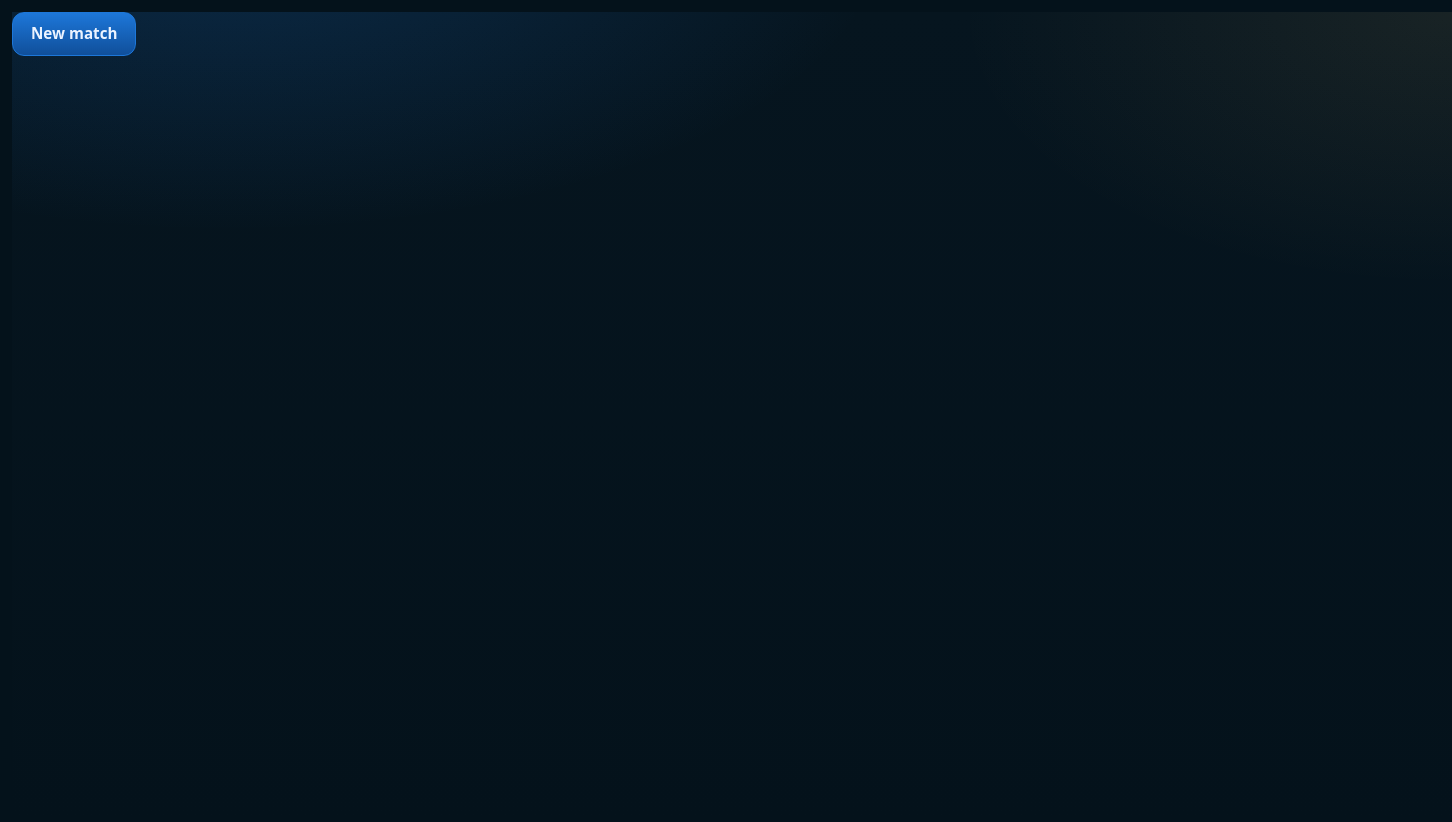
new match form › returns to the admin page, not the match page, after a previous match is recorded
The image size is (1452, 822).
Click the button "New match" at coordinates (74, 34), box [12,12,136,56]
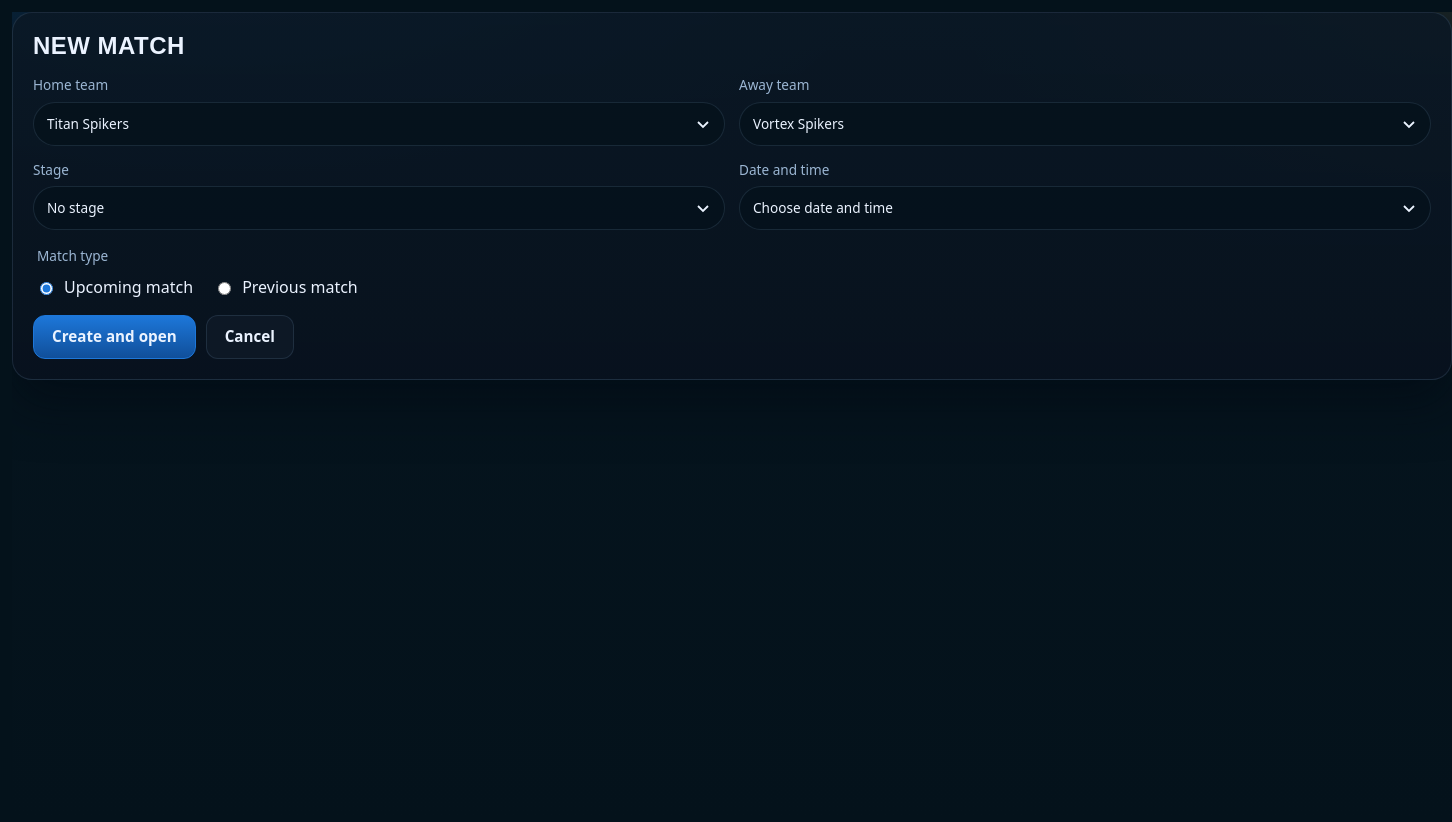
Click the radio button labelled "Previous match" at coordinates (225, 288), box [218,282,231,295]
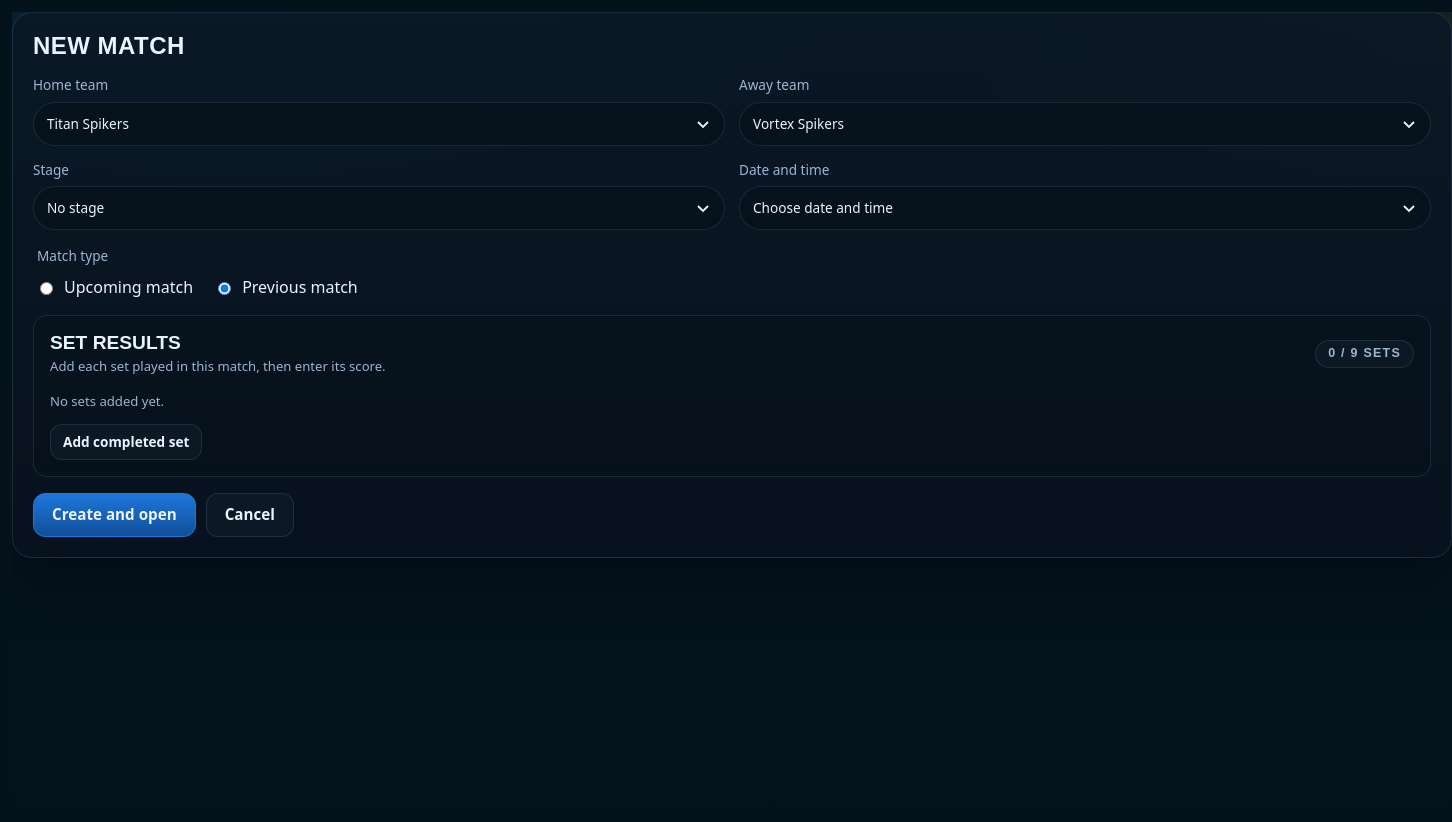
Click the button "Add completed set" at coordinates (126, 442), box [50,424,202,460]
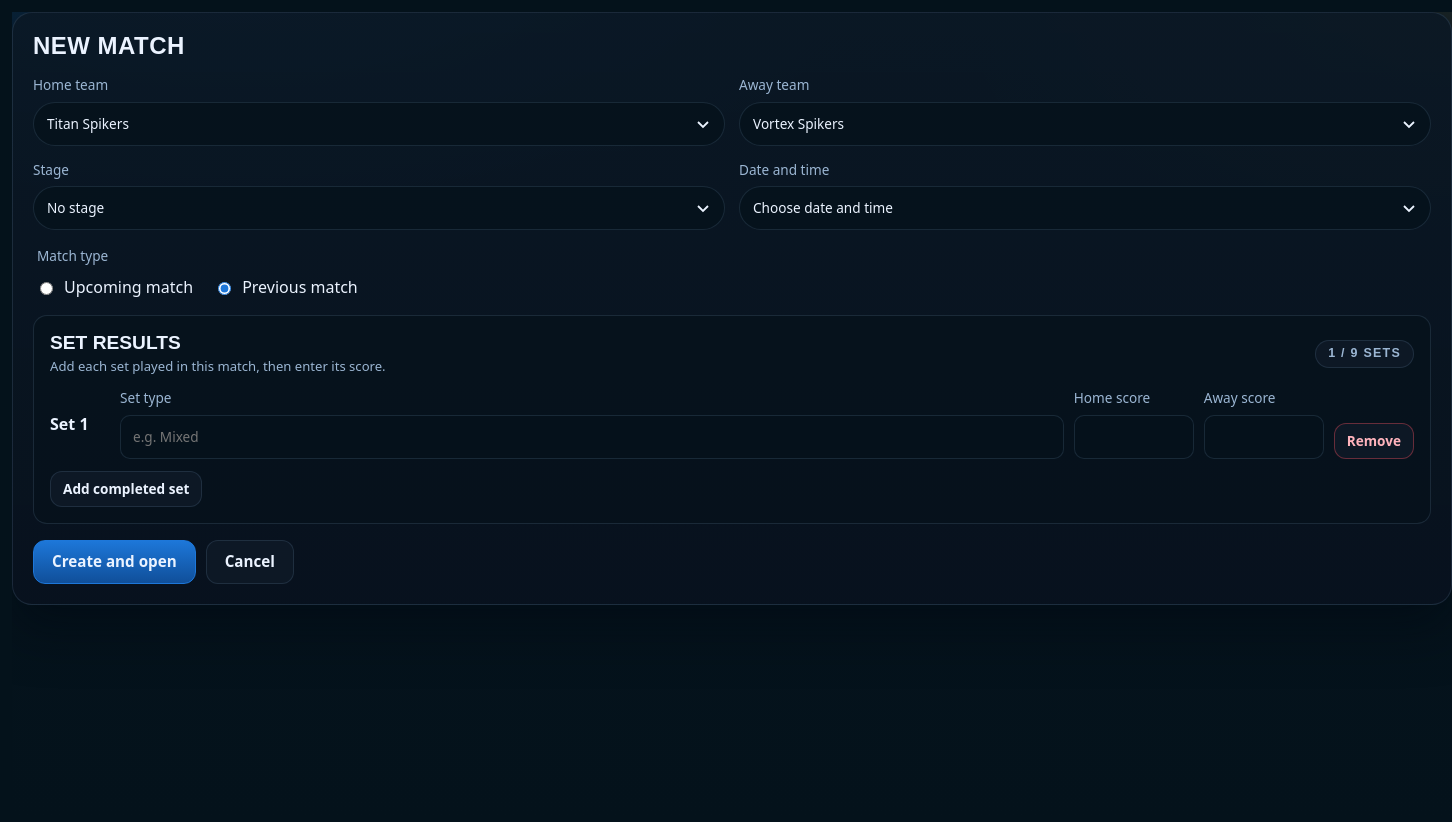
Type "25" into the number field named "Set 1 home score" at coordinates (1134, 437), box [1074,415,1194,459]
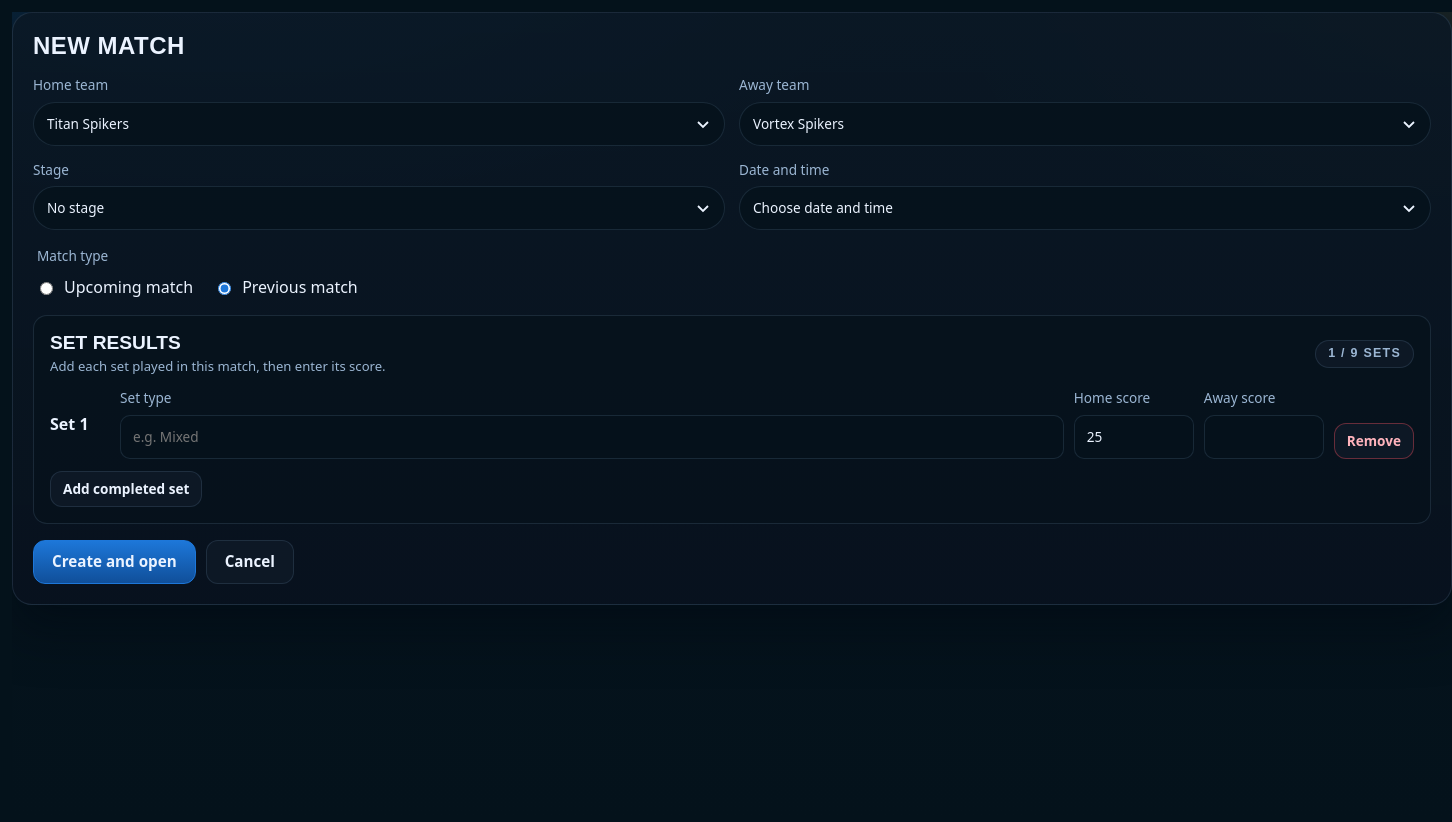
Type "20" into the number field named "Set 1 away score" at coordinates (1264, 437), box [1204,415,1324,459]
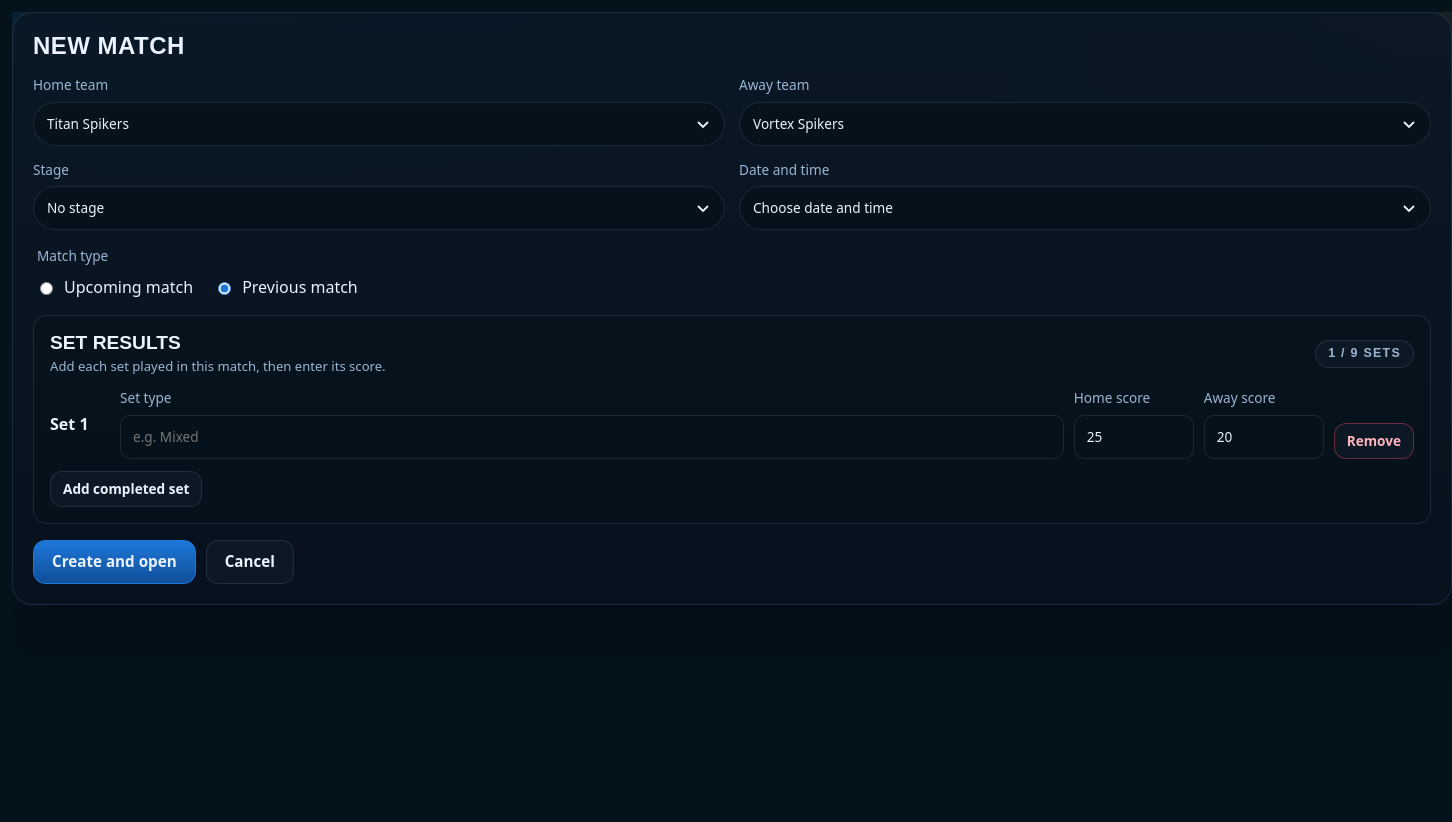
Click the button "Create and open" at coordinates (114, 562), box [33,540,196,584]
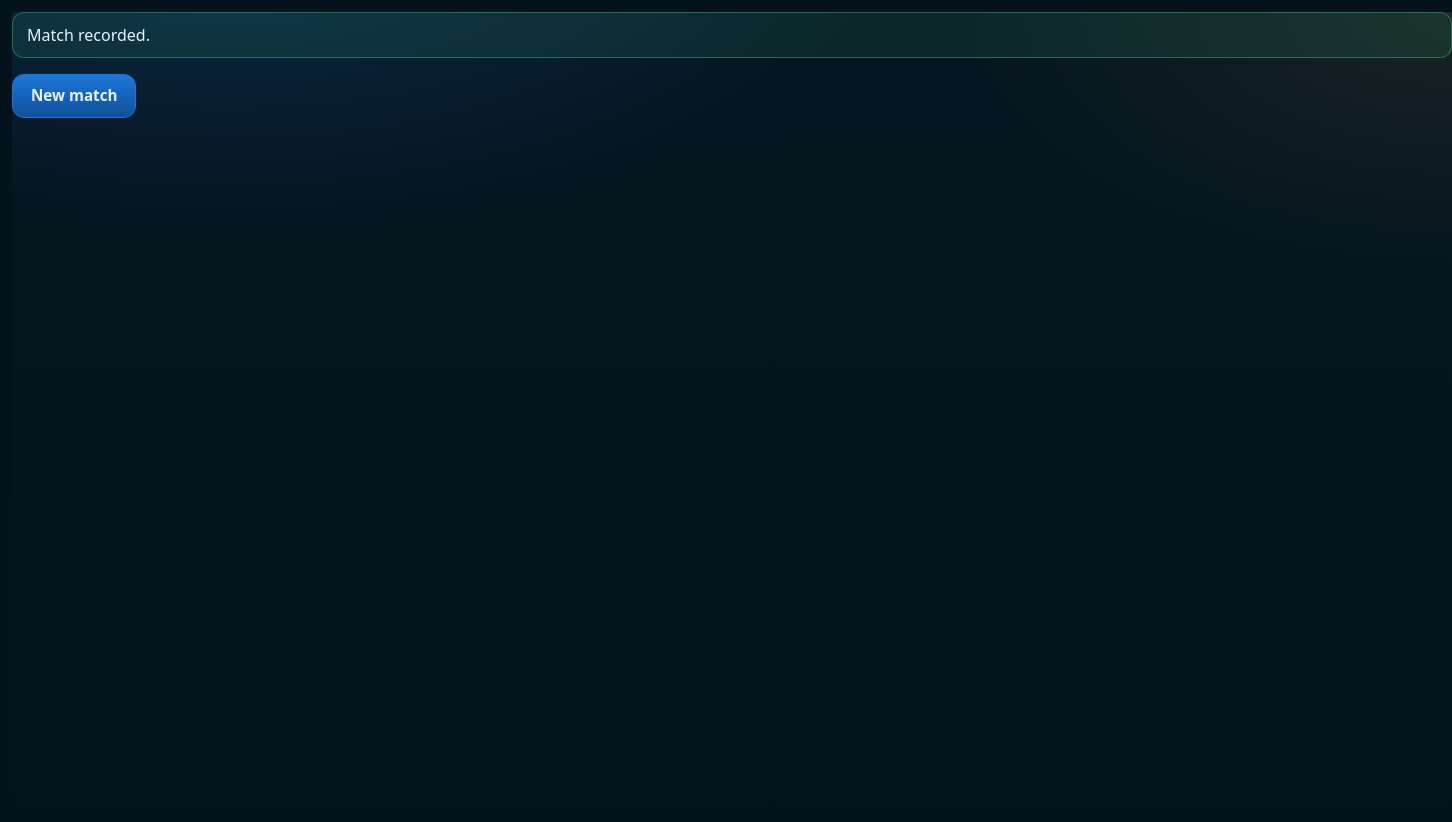
Expected: the button "New match" is shown, [12,74,136,118]
Expected: the text "Match recorded." is shown, [12,12,1451,58]
